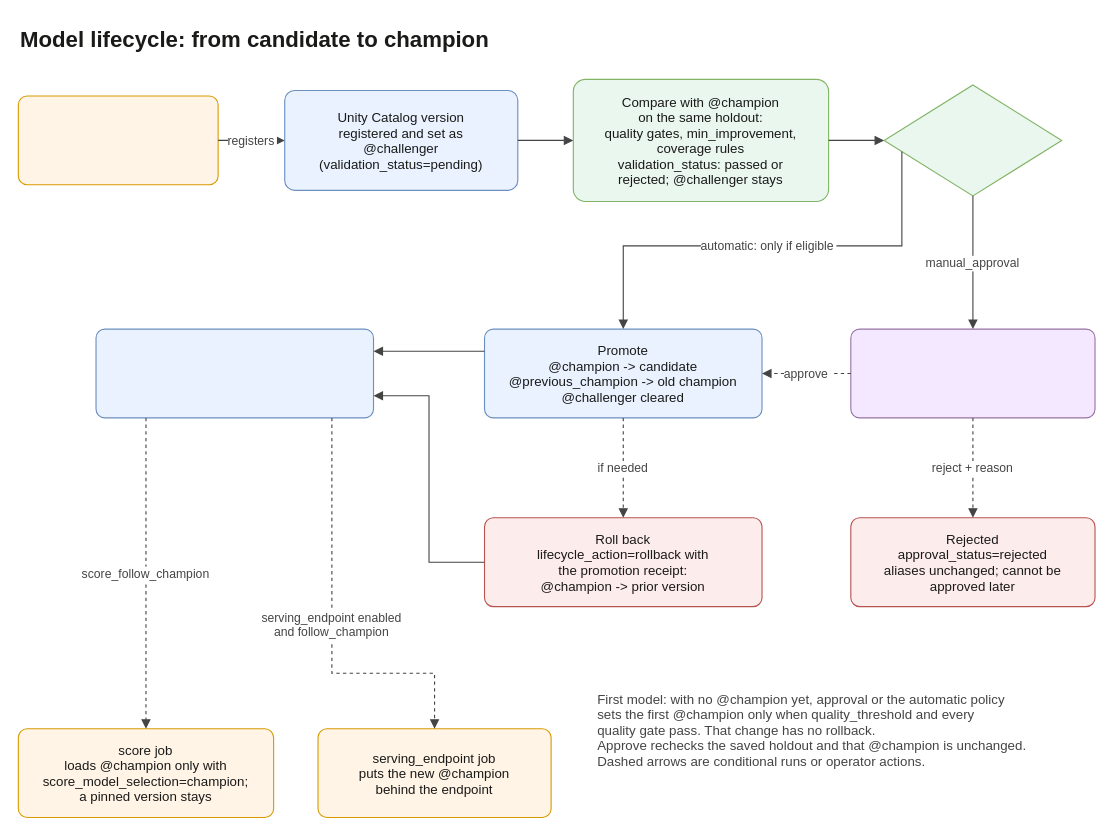
Some shapes in this 1113 by 836 pixel diagram are drawn without their labels. Here are the shapes that lost their labels. From the top down, the centre of each, then its label:
the point at 117,140: train job fit and validate a candidate
the point at 972,140: promotion_policy
the point at 234,373: @champion changed (first champion, promotion or rollback)
the point at 972,373: training_report shows approve and reject values for Run now (lifecycle_action)
